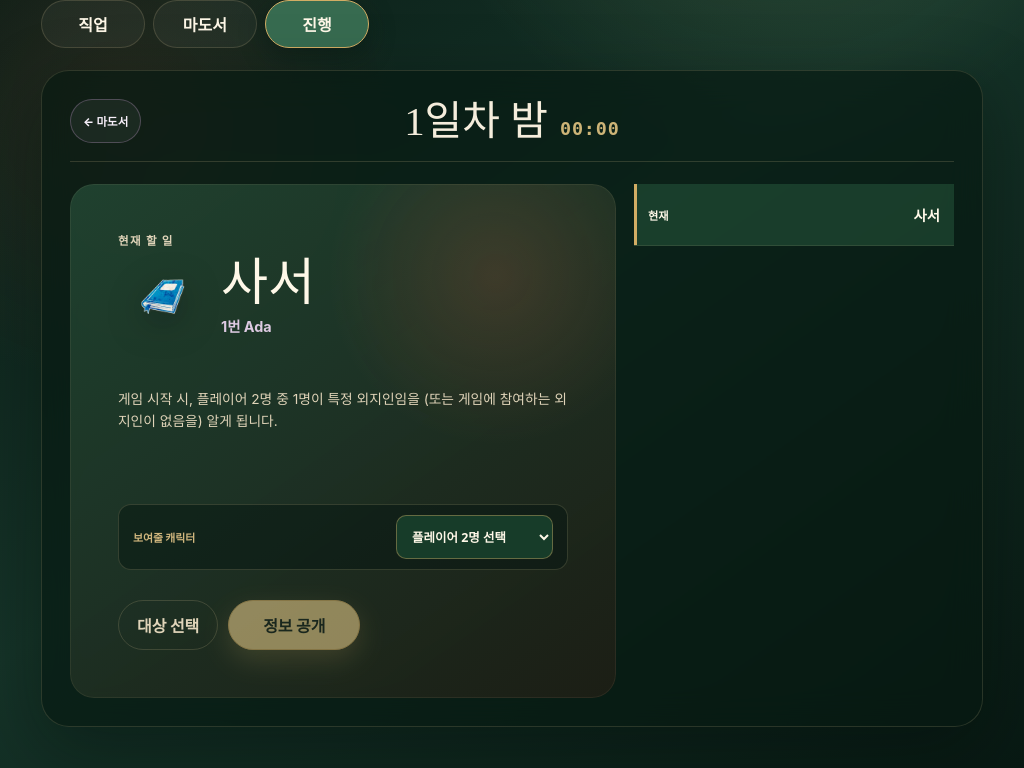
Issue 153 setup-information flow regressions › keeps a healthy Librarian zero choice editable when a registration candidate path also exists
(page scrolled)
Expected: the heading named "사서: 1번 Ada" is shown, [221,257,315,308]
Step 1. Select "외지인 없음" in the dropdown named "보여줄 캐릭터" → (474, 537), box [396,515,553,559]
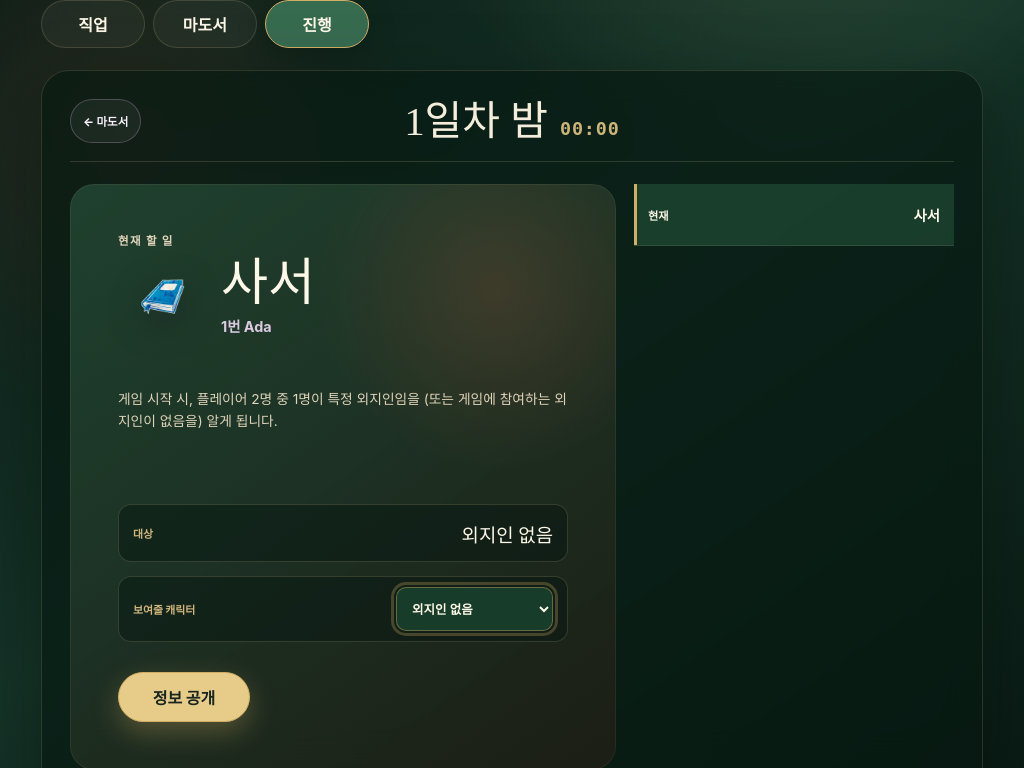
Expected: the button "정보 공개" is shown, [118,672,250,722]
Step 2. Select "플레이어 2명 선택" in the dropdown named "보여줄 캐릭터" → (474, 609), box [396,587,553,631]
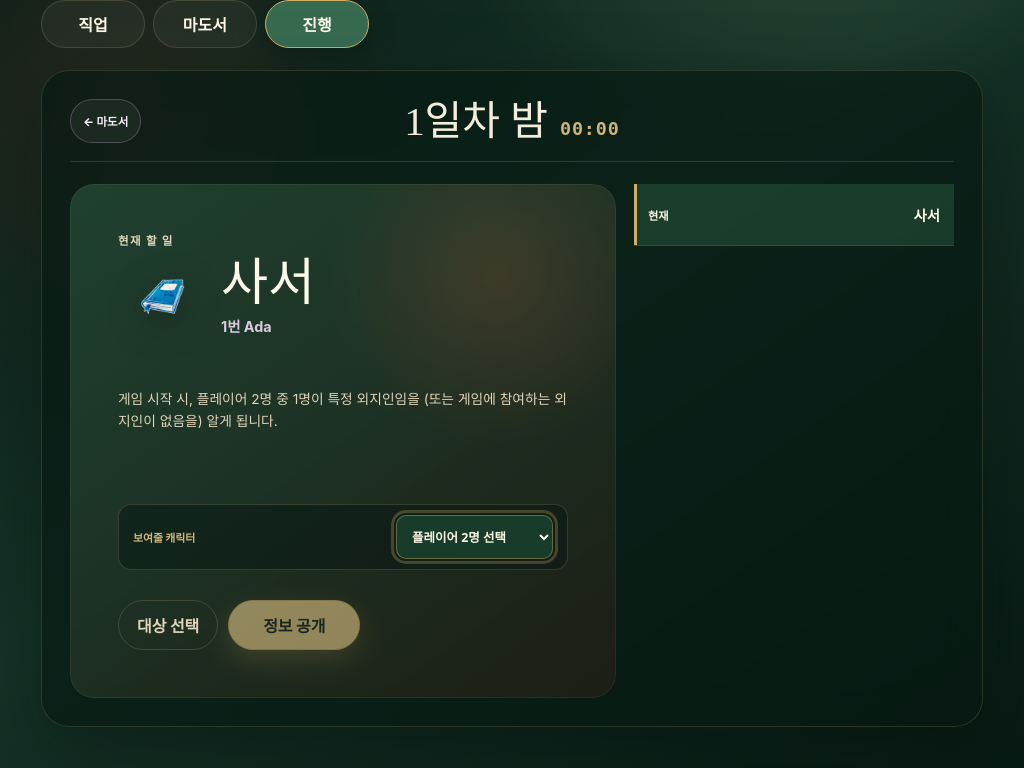
Result: the button "대상 선택" is shown at [118,600,218,650]
